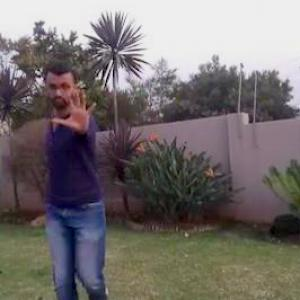follow_hand: (49, 85, 100, 134)
